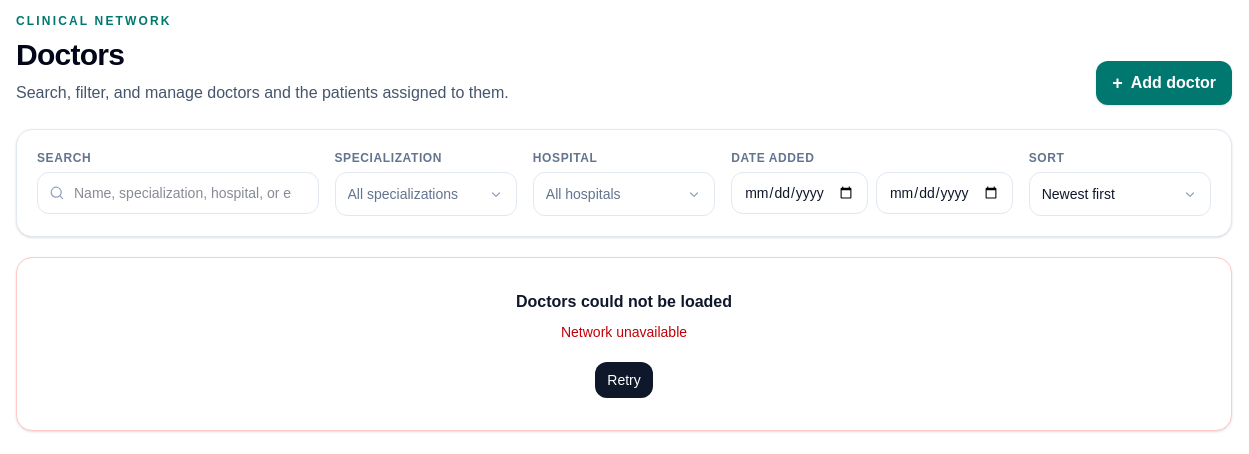
it: DoctorsManager list › shows an error state and recovers on retry
Check: the message reads "Network unavailable", box [561,324,687,340]
Step 1. Click the button "Retry" → coordinates (624, 380), box [595,362,653,398]
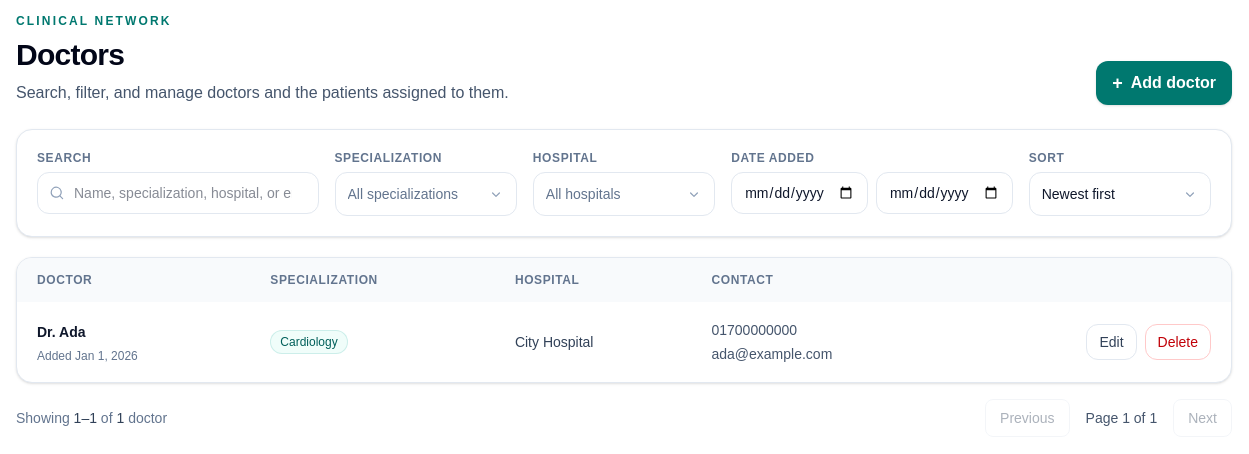
Check: the link "Dr. Ada" is shown, box [37,320,86,344]
